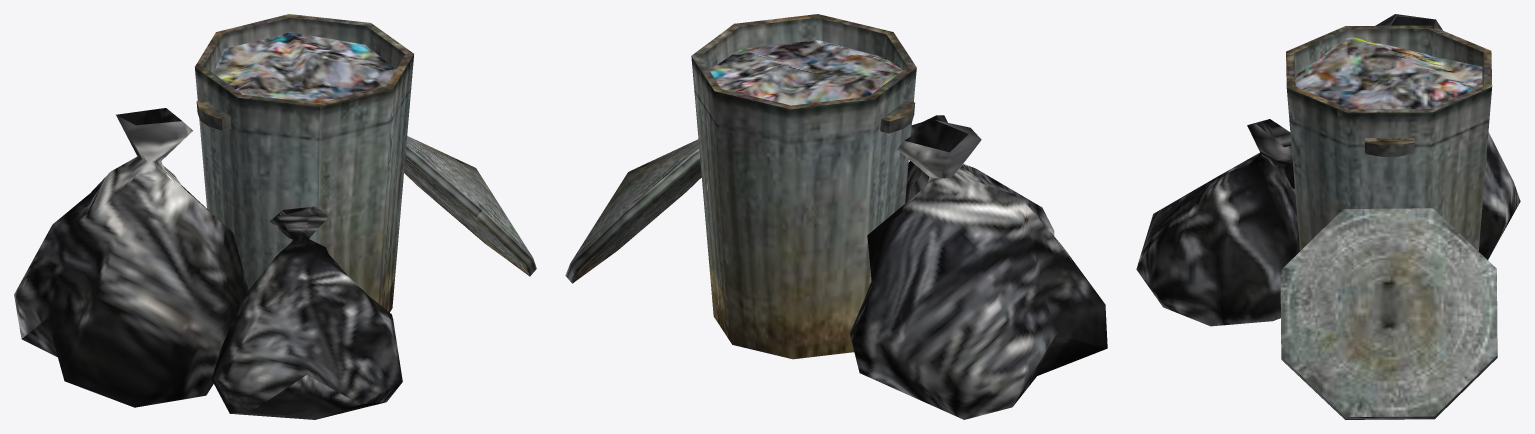
Rendered from Trash.fbx.
The picture shows the model from 3 angles, left to right: view 1: azimuth 30°, elevation 25°; view 2: azimuth 150°, elevation 25°; view 3: azimuth 270°, elevation 25°; orthographic projection. The views are drawn at different scales.
Visible parts, largest first — view 1: Trash2, Bin, Trash3, Trash1, Lid; view 2: Bin, Trash2, Trash1, Lid, Trash3; view 3: Lid, Bin, Trash3, Trash1, Trash2.
Part boxes in pixels (box(x1,y1,x2,y2)): Trash2: box(14, 108, 248, 407); Bin: box(195, 14, 413, 312); Trash3: box(211, 206, 402, 419); Trash1: box(213, 32, 396, 102); Lid: box(404, 136, 536, 276); Bin: box(691, 14, 916, 359); Trash2: box(850, 120, 1107, 419); Trash1: box(709, 40, 902, 105); Lid: box(565, 139, 701, 283); Trash3: box(905, 115, 1054, 235); Lid: box(1280, 208, 1497, 419); Bin: box(1286, 25, 1492, 250); Trash3: box(1136, 119, 1299, 326); Trash1: box(1296, 37, 1482, 109); Trash2: box(1284, 14, 1520, 259).
Bounding box in the file's own units: 474 × 258 × 328.
